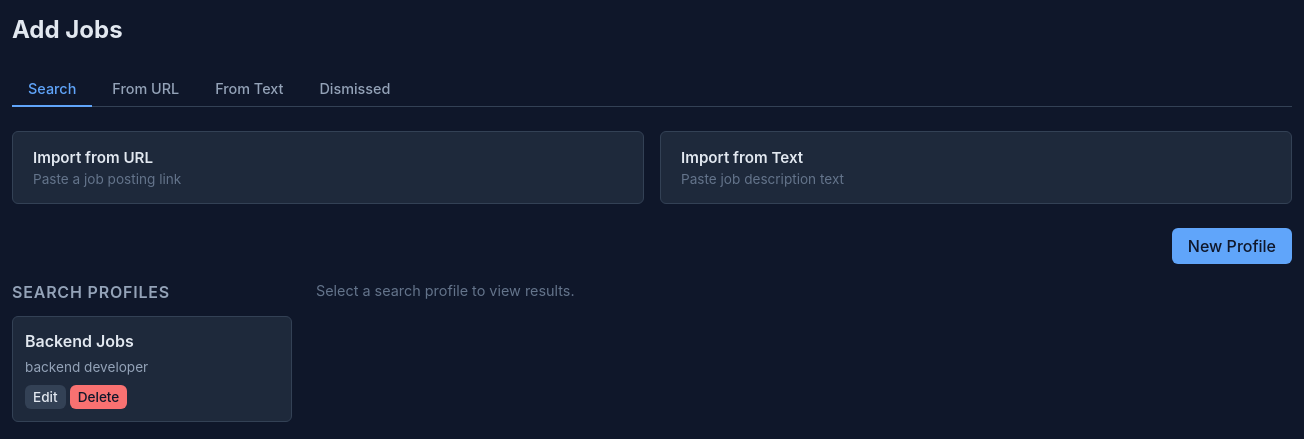
Search Page — selectProfile loads persisted results › shows empty message when profile has no persisted results
Click the text "Backend Jobs": [79, 341] box [25,331,134,351]
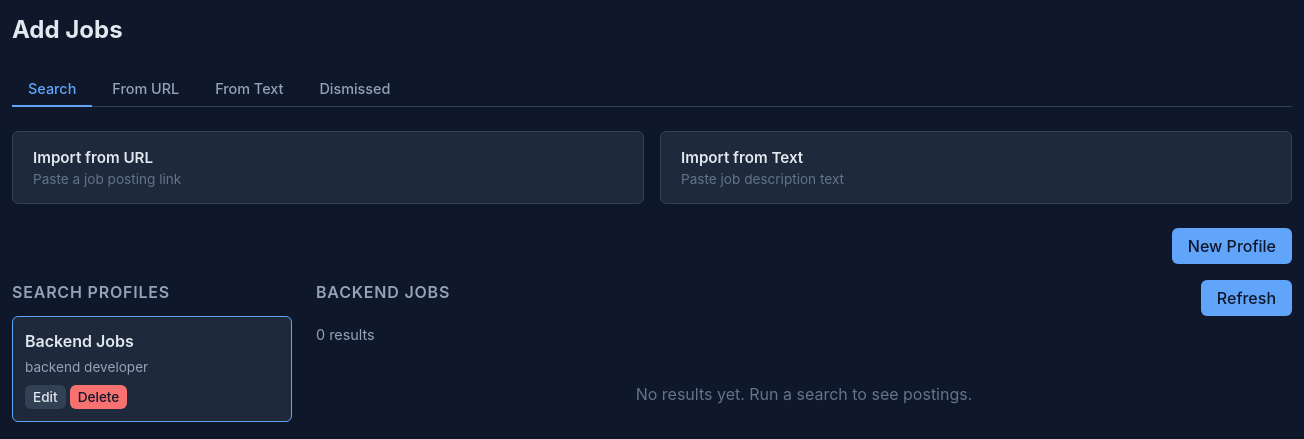
expect the text "No results yet. Run a search to see postings." is shown: met, box [636,384,972,404]
